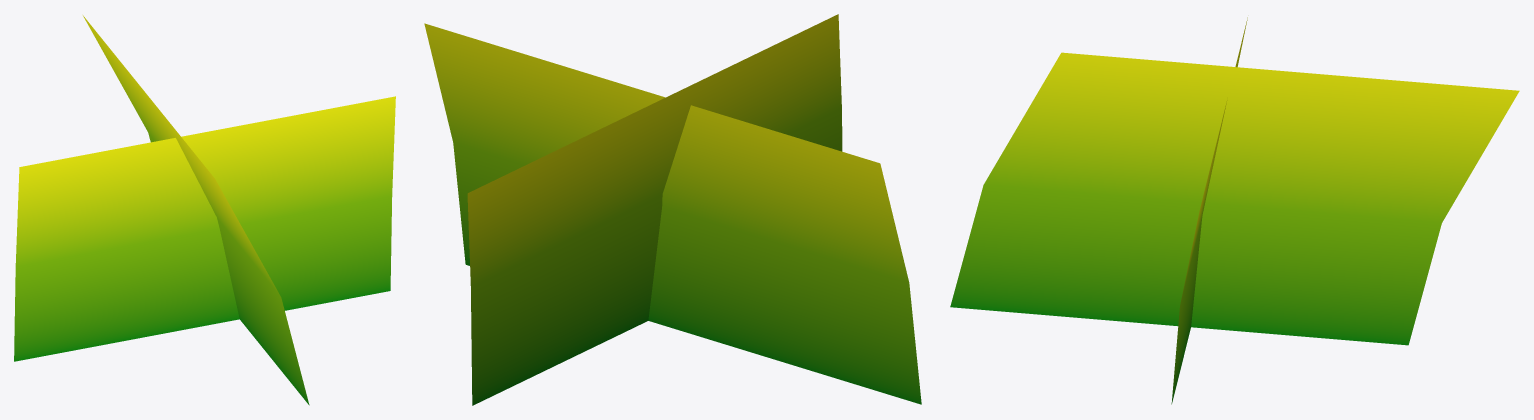
Rendered from SM_Grass_Clump_C.fbx.
3 renders of one model, left to right at view 1: azimuth 30°, elevation 25°; view 2: azimuth 150°, elevation 25°; view 3: azimuth 270°, elevation 25°, orthographic. The views are drawn at different scales.
Parts seen in each view (by area): view 1: SM_Grass_Clump_C; view 2: SM_Grass_Clump_C; view 3: SM_Grass_Clump_C.
Boxes of the visible parts, x1=… form: SM_Grass_Clump_C: x1=14, y1=15, x2=395, y2=405; SM_Grass_Clump_C: x1=424, y1=14, x2=921, y2=405; SM_Grass_Clump_C: x1=950, y1=17, x2=1519, y2=404.
Size of the model in its own units: 52.22 by 60.95 by 27.09.
